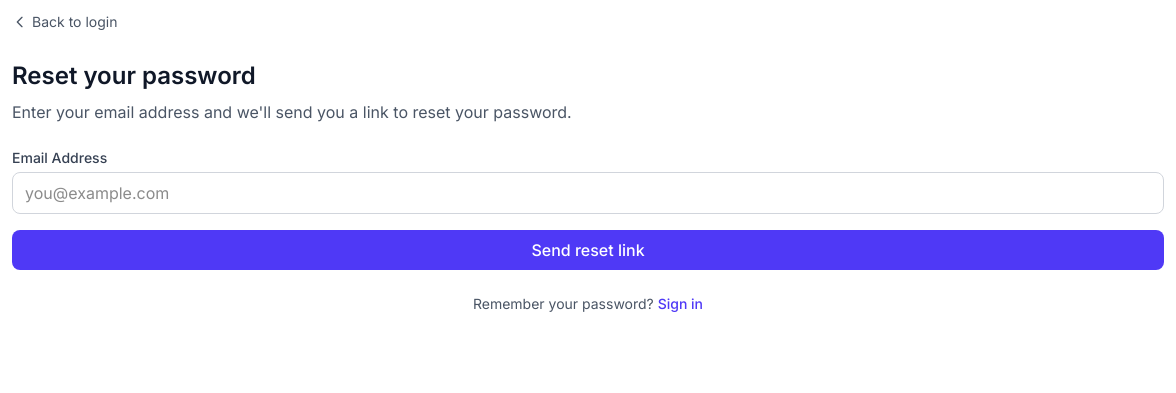
Test: Login Page › Form Submission › disables form inputs during submission
This screenshot has width=1176, height=393.
Type "test@example.com" into the field labelled "Email Address". click: (588, 193)
box: [12, 172, 1164, 214]
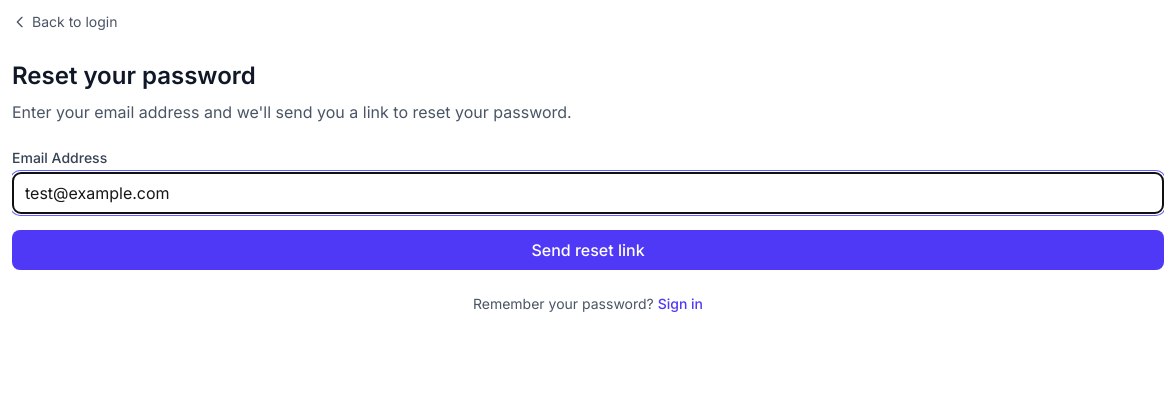
Click the button "Send reset link". click: (588, 250)
box: [12, 230, 1164, 270]
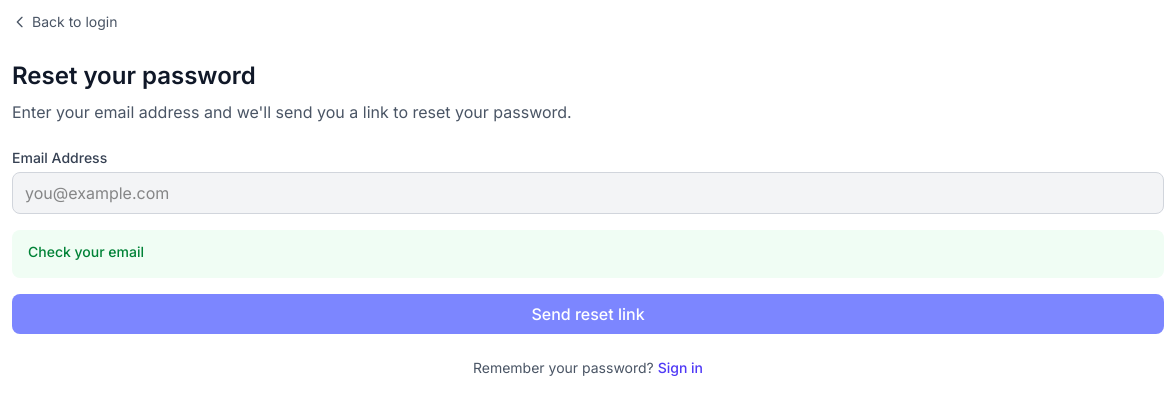
Now the field labelled "Email Address" is disabled, box [12, 172, 1164, 214]
Now the button "Send reset link" is disabled, box [12, 294, 1164, 334]
